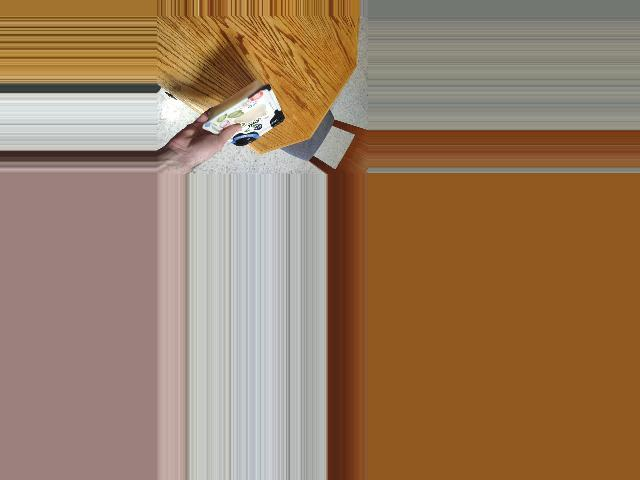cheese: (208, 67, 289, 148)
